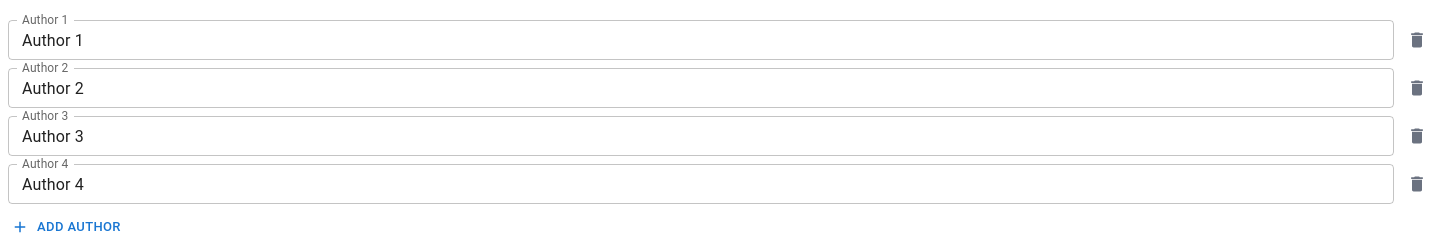
Test case: RepeatableField › should correctly remove the second item in a list of four
Expected: the field labelled "Author 1" holds "Author 1", [8,20,1394,60]
Expected: the field labelled "Author 2" holds "Author 2", [8,68,1394,108]
Click the button with test id "author-field-remove-1" at [1417, 88], box [1402,73,1432,103]
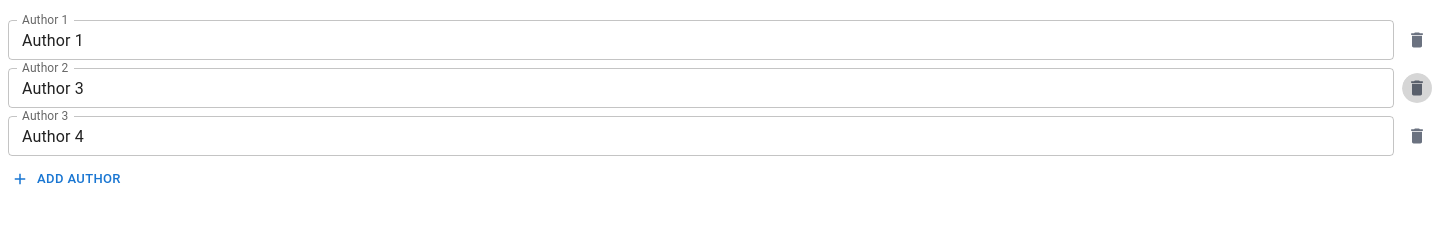
Expected: the field labelled "Author 1" holds "Author 1", [8,20,1394,60]
Now the field labelled "Author 2" holds "Author 3", box [8,68,1394,108]
Now the field labelled "Author 3" holds "Author 4", box [8,116,1394,156]
